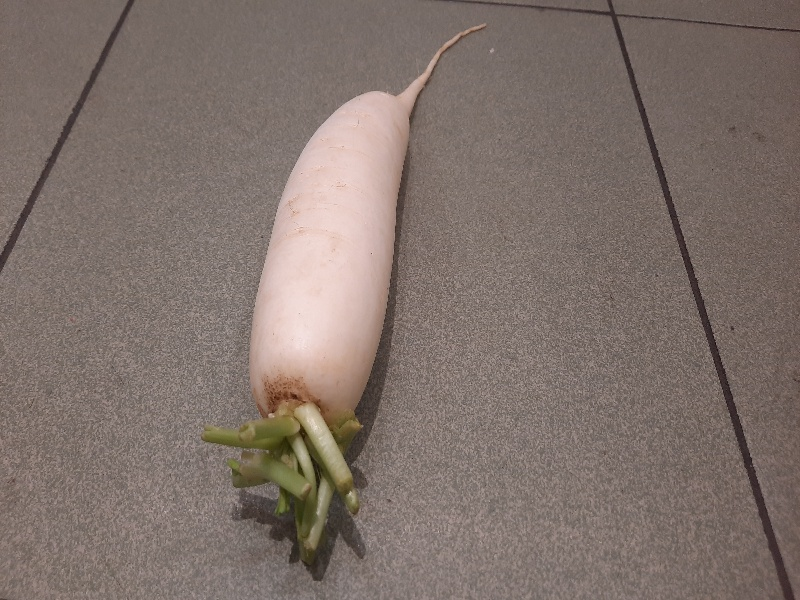vege: (207, 21, 473, 578)
